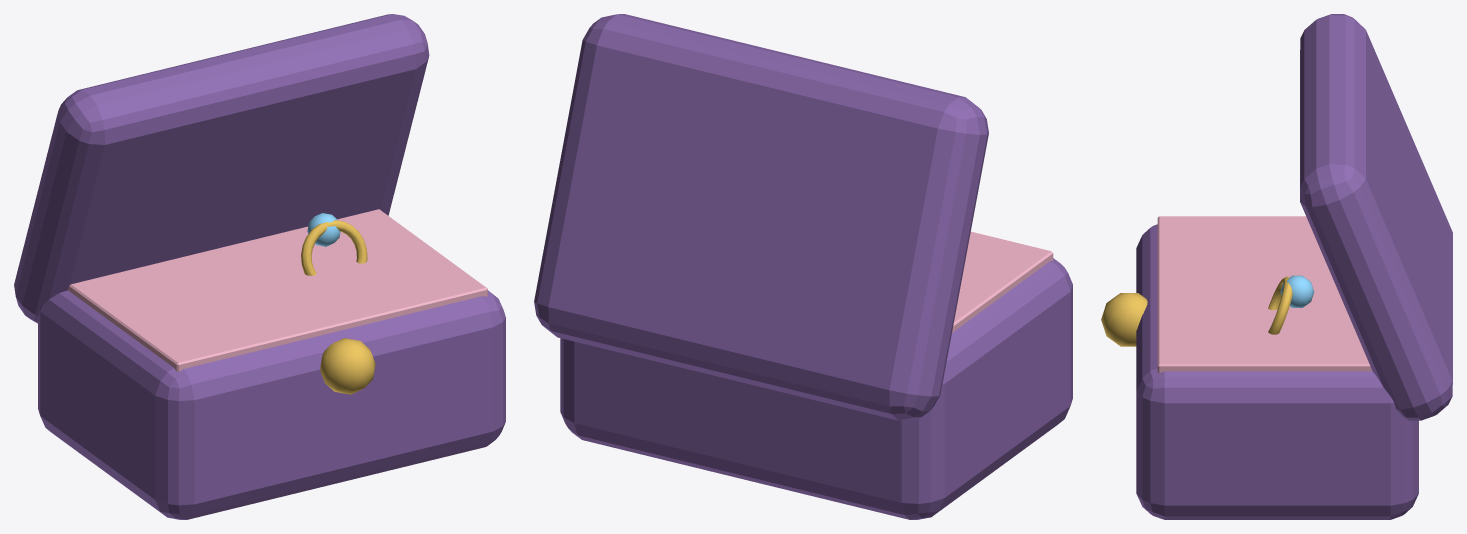
File: storage_box.glb
3 renders of one model, left to right at view 1: azimuth 30°, elevation 25°; view 2: azimuth 150°, elevation 25°; view 3: azimuth 270°, elevation 25°, orthographic. The views are drawn at different scales.
Parts seen in each view (by area): view 1: lid, box, velvet, clasp, ring, gem; view 2: lid, box, velvet; view 3: box, lid, velvet, clasp, ring, gem.
Boxes of the visible parts, x1,y1,x2,y2 form: lid: [14, 14, 429, 323]; box: [38, 290, 505, 519]; velvet: [68, 209, 487, 371]; clasp: [320, 338, 375, 394]; ring: [301, 220, 367, 275]; gem: [307, 213, 340, 246]; lid: [534, 14, 988, 420]; box: [560, 258, 1072, 519]; velvet: [952, 231, 1053, 332]; box: [1136, 224, 1418, 519]; lid: [1300, 14, 1452, 420]; velvet: [1157, 216, 1372, 372]; clasp: [1101, 293, 1147, 346]; ring: [1268, 276, 1292, 334]; gem: [1280, 275, 1314, 307].
Bounding box in the file's own units: 0.29 × 0.2797 × 0.2491.
